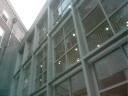window: (38, 3, 128, 96)
